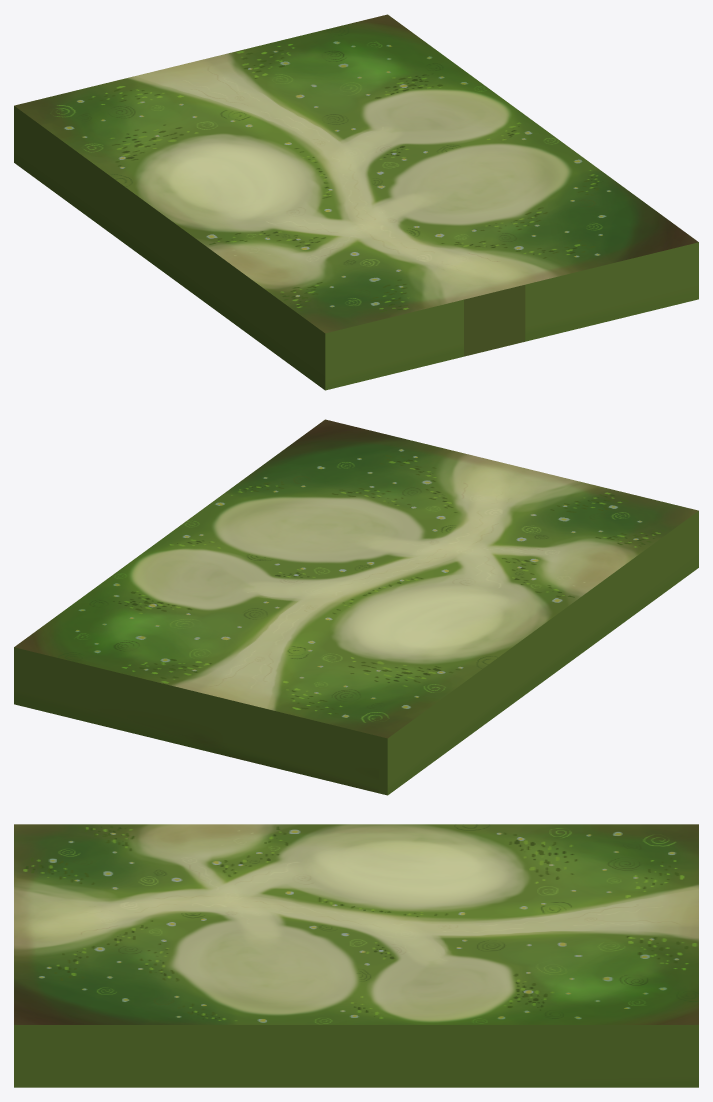
File: ground 1.fbx
3 views of the same model, one above another, from view 1: azimuth 30°, elevation 25°; view 2: azimuth 150°, elevation 25°; view 3: azimuth 270°, elevation 25° (orthographic). The views are drawn at different scales.
Parts seen in each view (by area): view 1: ground; view 2: ground; view 3: ground.
Boxes of the visible parts, bbox=[...] form: ground: bbox=[14, 14, 698, 390]; ground: bbox=[14, 419, 698, 795]; ground: bbox=[14, 824, 698, 1087].
Bounding box in the file's own units: 13535 × 1975 × 19521.
